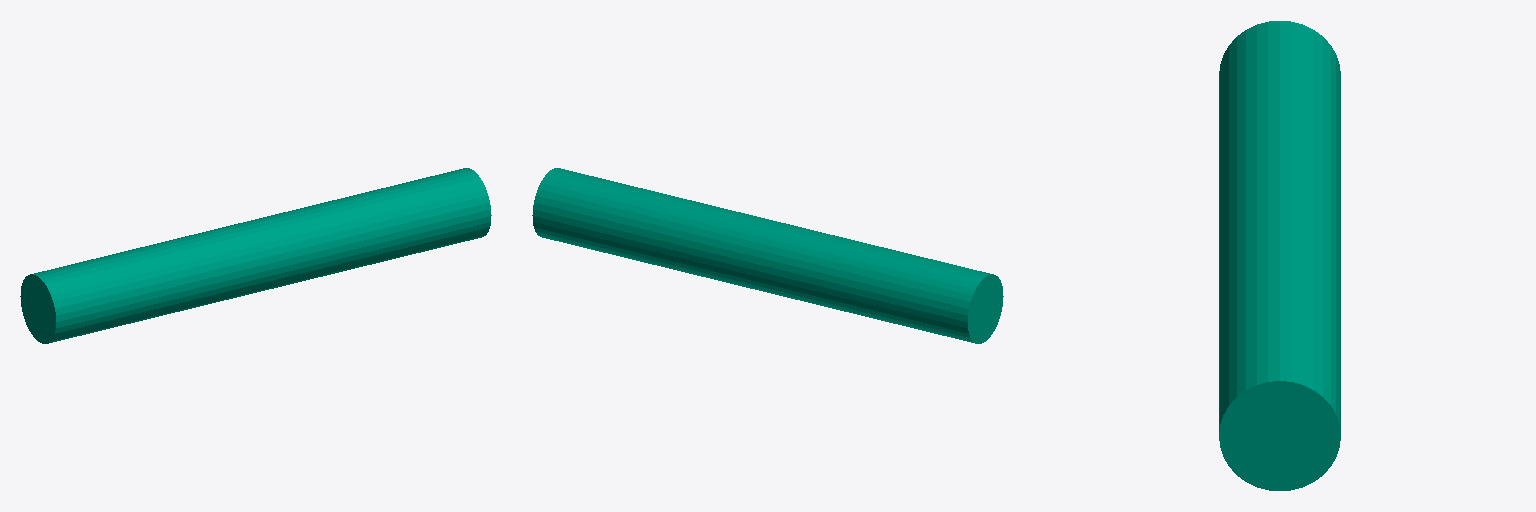
robot.urdf — edge_glas:
<?xml version="1.0" ?>
<robot name="edge_glas">
  <link name="edge_glas_link">
    <inertial>
      <origin rpy="0 0 0" xyz="0 0 0"/>
       <mass value="0.025"/>
       <inertia ixx="1" ixy="0" ixz="0" iyy="1" iyz="0" izz="1"/>
    </inertial>
    <visual>
      <origin rpy="0 1.57 0" xyz="0 0 0"/>
      <geometry>
				<cylinder radius="0.02" length="0.28"/>
      </geometry>
      <material name="lightviolet_transparent">
        <color rgba="0.0 0.65 0.55 0.5"/>
        <specular rgb="0 0 1"/>
      </material>
    </visual>
  </link>
</robot>

--- Render facts (derived) ---
Views: 3 orthographic renders of the robot side by side, from view 1: azimuth 30°, elevation 25°; view 2: azimuth 150°, elevation 25°; view 3: azimuth 270°, elevation 25°.
Robot: edge_glas — 1 links, 0 joints (none); root link edge_glas_link; default pose: every joint at zero.
Links seen in each view (by area): view 1: edge_glas_link; view 2: edge_glas_link; view 3: edge_glas_link.
Link boxes in pixels (x1,y1,x2,y2): edge_glas_link: (20, 168, 491, 343); edge_glas_link: (532, 168, 1003, 343); edge_glas_link: (1219, 21, 1340, 490).
Size in the robot's own frame: 0.28 by 0.04 by 0.0402 metres.
Geometry: primitives only (box / cylinder / sphere), no mesh files.